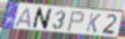2: (101, 14, 118, 36)
3: (51, 11, 67, 31)
A: (13, 7, 32, 29)
K: (85, 12, 102, 35)
N: (31, 7, 54, 31)
P: (66, 11, 85, 33)
